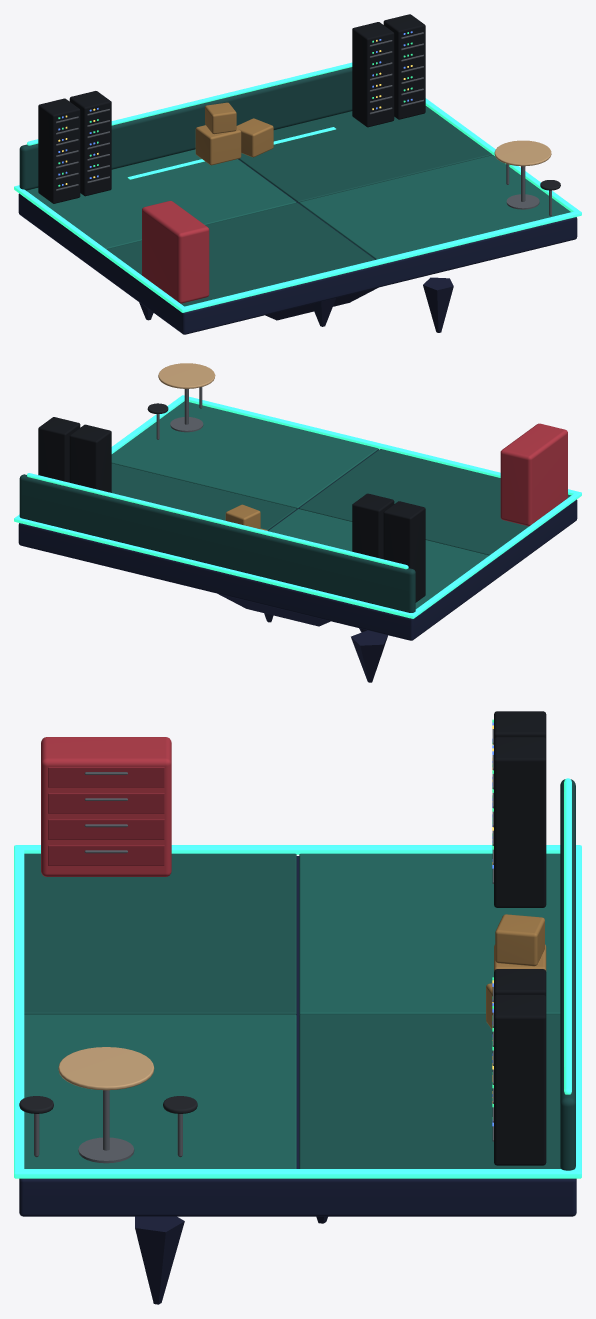
Rendered from island_engineering.glb.
The picture shows the model from 3 angles, top to bottom: view 1: azimuth 30°, elevation 25°; view 2: azimuth 150°, elevation 25°; view 3: azimuth 270°, elevation 25°; orthographic projection. The views are drawn at different scales.
Parts seen in each view (by area): view 1: Tile.003, Tile.002, Slab, Tile, Tile.001, WallBack, Cabinet, ServerRack.002, ServerRack, ServerRack.001, ServerRack.003, RimZ.001 (+10 smaller); view 2: WallBack, Tile.003, Slab, Tile.001, Cabinet, Tile.002, Tile, ServerRack, ServerRack.002, RimZ, ServerRack.001, ServerRack.003 (+8 smaller); view 3: Tile.001, Tile.003, Tile, Tile.002, Slab, ServerRack.003, ServerRack.001, Cabinet, RimX.001, WallBack, RimZ.001, HighTable (+12 smaller).
Boxes of the visible parts, x1,y1,x2,y2 form: Tile.003: (299, 155, 570, 259); Tile.002: (239, 106, 492, 202); Slab: (18, 159, 577, 334); Tile: (26, 149, 296, 249); Tile.001: (107, 203, 374, 306); WallBack: (19, 67, 352, 190); Cabinet: (142, 200, 209, 303); ServerRack.002: (352, 22, 394, 127); ServerRack: (38, 98, 80, 203); ServerRack.001: (69, 91, 111, 196); ServerRack.003: (383, 14, 425, 119); RimZ.001: (180, 211, 581, 312); WallBack: (19, 474, 415, 612); Tile.003: (111, 401, 378, 508); Slab: (18, 449, 577, 640); Tile.001: (299, 449, 571, 555); Cabinet: (500, 423, 567, 526); Tile.002: (111, 463, 296, 530); Tile: (268, 509, 489, 608); ServerRack: (383, 501, 425, 602); ServerRack.002: (69, 424, 111, 492); RimZ: (14, 517, 415, 618); ServerRack.001: (352, 493, 394, 559); ServerRack.003: (38, 417, 80, 482); Tile.001: (24, 853, 296, 1014); Tile.003: (24, 1014, 296, 1168); Tile: (299, 853, 560, 1014); Tile.002: (299, 1014, 560, 1168); Slab: (19, 856, 576, 1216); ServerRack.003: (494, 994, 546, 1165); ServerRack.001: (494, 737, 546, 907); Cabinet: (41, 737, 171, 876); RimX.001: (21, 1169, 574, 1178); WallBack: (560, 779, 575, 1170); RimZ.001: (14, 845, 24, 1178); HighTable: (58, 1047, 154, 1090).
Size of the model in its own units: 8.92 by 4.54 by 6.52.
